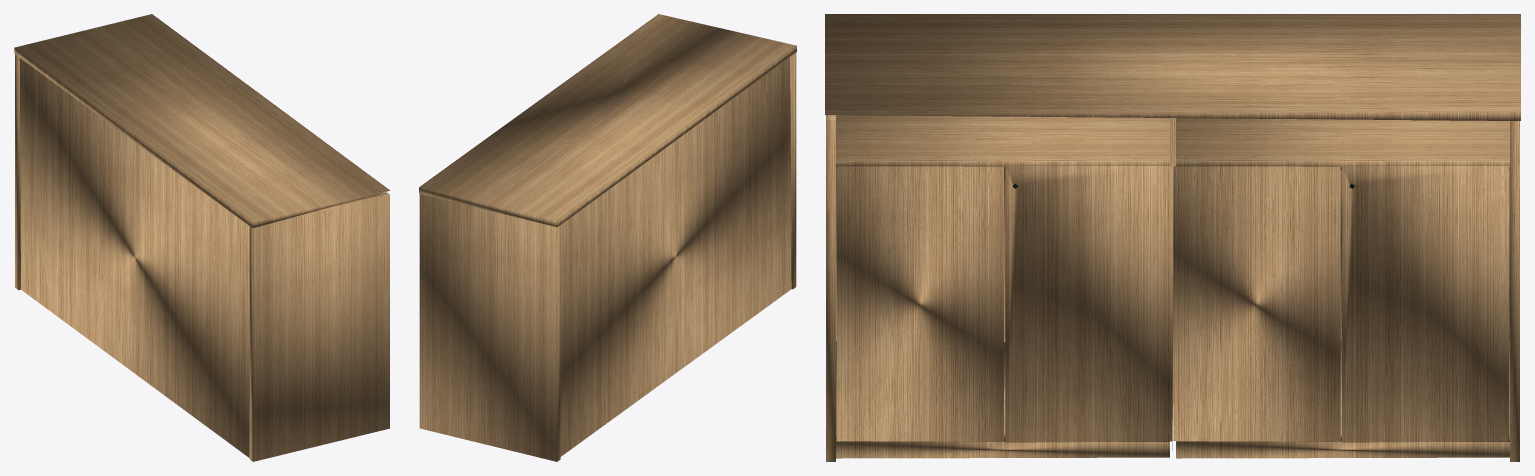
The model's file is ABC-43.obj.
The picture shows the model from 3 angles, left to right: view 1: azimuth 30°, elevation 25°; view 2: azimuth 150°, elevation 25°; view 3: azimuth 270°, elevation 25°; orthographic projection. The views are drawn at different scales.
Parts seen in each view (by area): view 1: Layer_insert; view 2: Layer_insert; view 3: Layer_insert.
Part boxes in pixels (x1,y1,x2,y2): Layer_insert: (14,14,389,461); Layer_insert: (419,14,796,461); Layer_insert: (825,14,1520,461).
Bounding box in the file's own units: 6 × 10 × 18.
